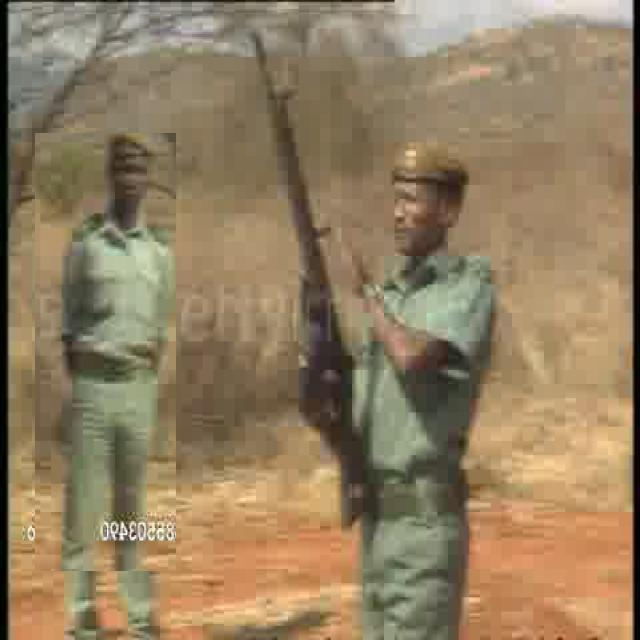poacher: (350, 98, 514, 586), (35, 133, 176, 571)
weapon: (248, 1, 382, 508)
